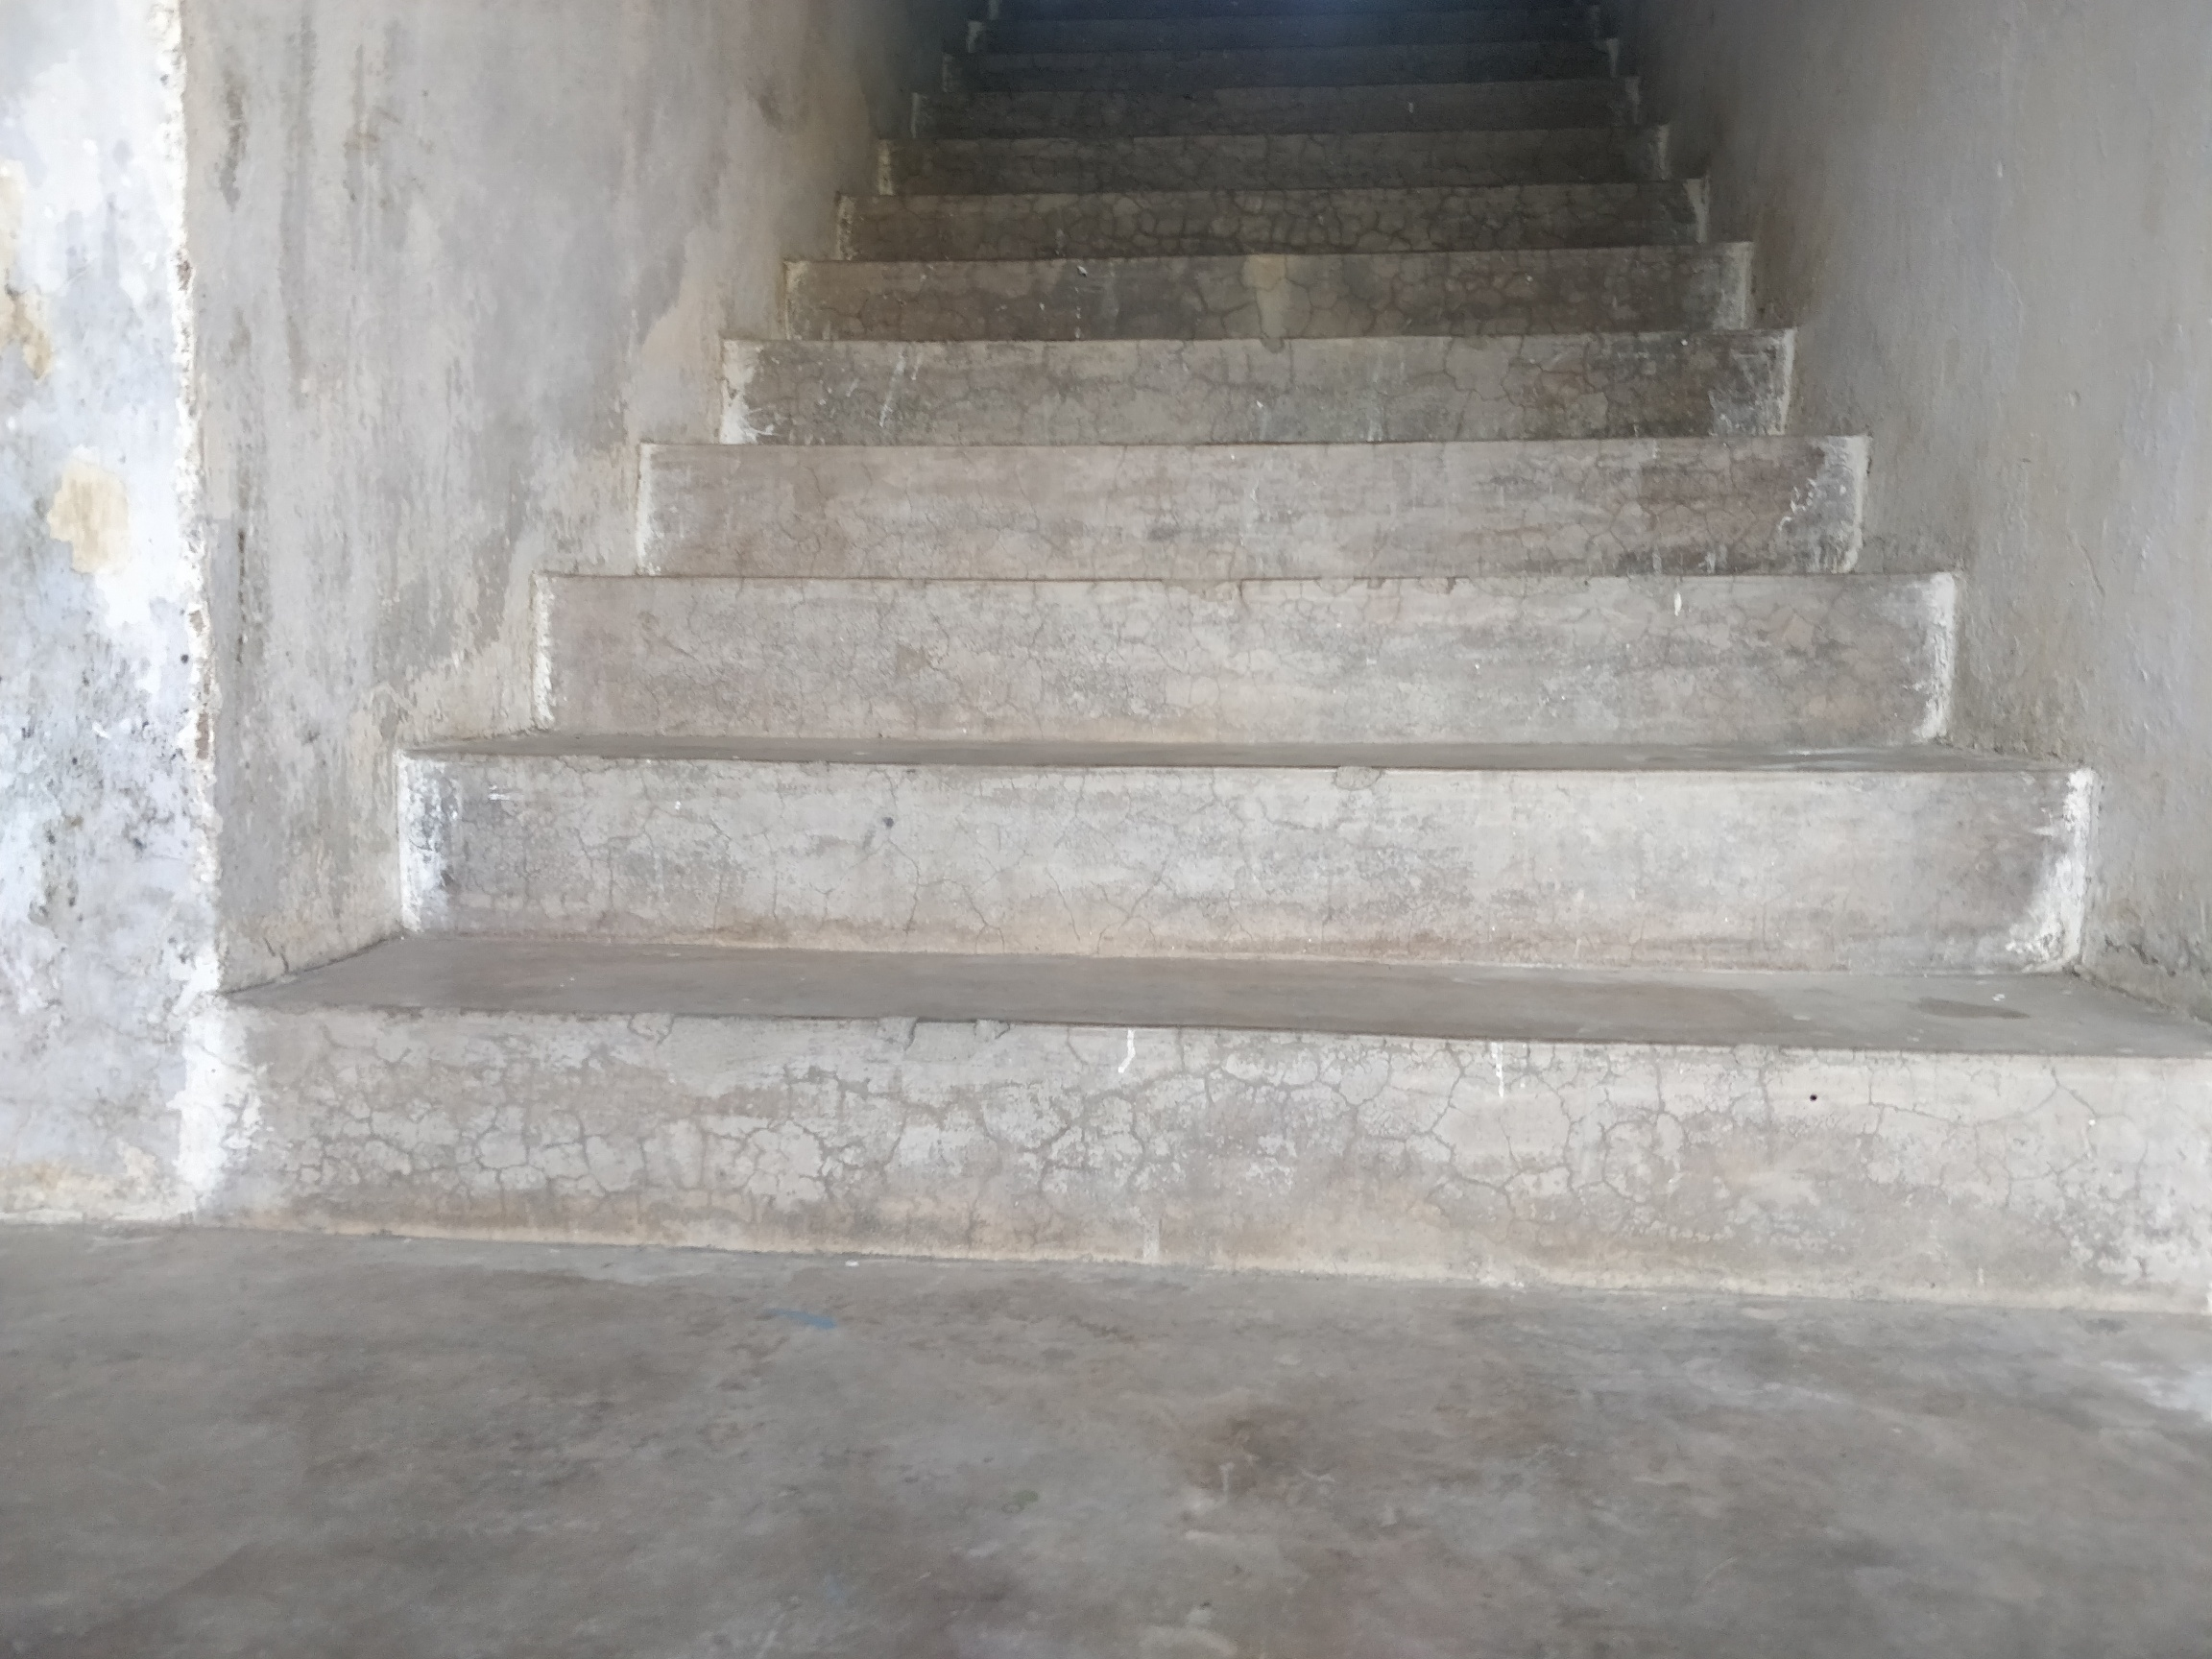stairs_up: (409, 45, 2175, 1269)
